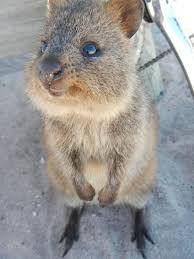quokka: (22, 1, 166, 259)
